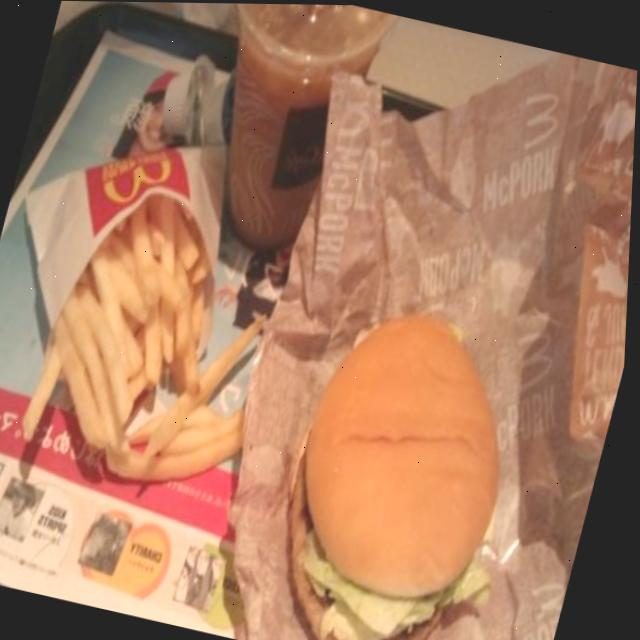汉堡快餐: (260, 294, 543, 640)
炸货点心: (0, 97, 259, 473)
